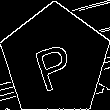P_N: (30, 31, 80, 90)
